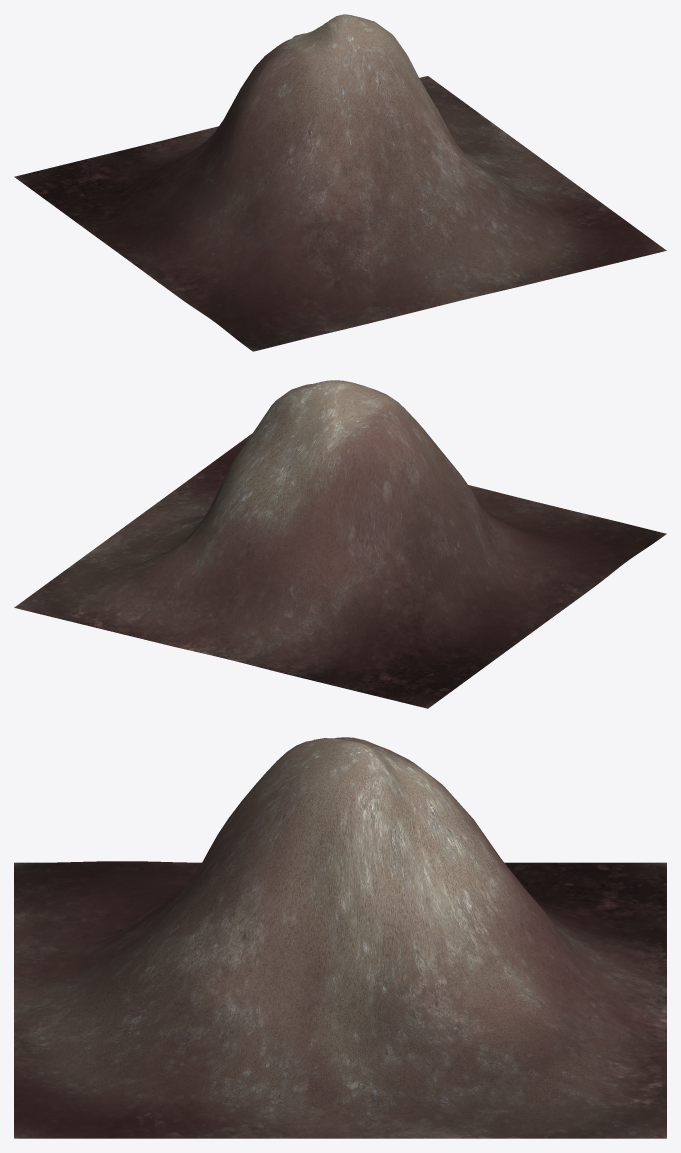
The model's file is Dirtpile_3.1.fbx.
The picture shows the model from 3 angles, top to bottom: view 1: azimuth 30°, elevation 25°; view 2: azimuth 150°, elevation 25°; view 3: azimuth 270°, elevation 25°; orthographic projection. The views are drawn at different scales.
Parts seen in each view (by area): view 1: pPlane1; view 2: pPlane1; view 3: pPlane1.
Boxes of the visible parts, x1=… form: pPlane1: x1=14, y1=14, x2=666, y2=351; pPlane1: x1=14, y1=380, x2=666, y2=708; pPlane1: x1=14, y1=737, x2=666, y2=1138.
Size of the model in its own units: 23.53 by 10.37 by 23.53.
